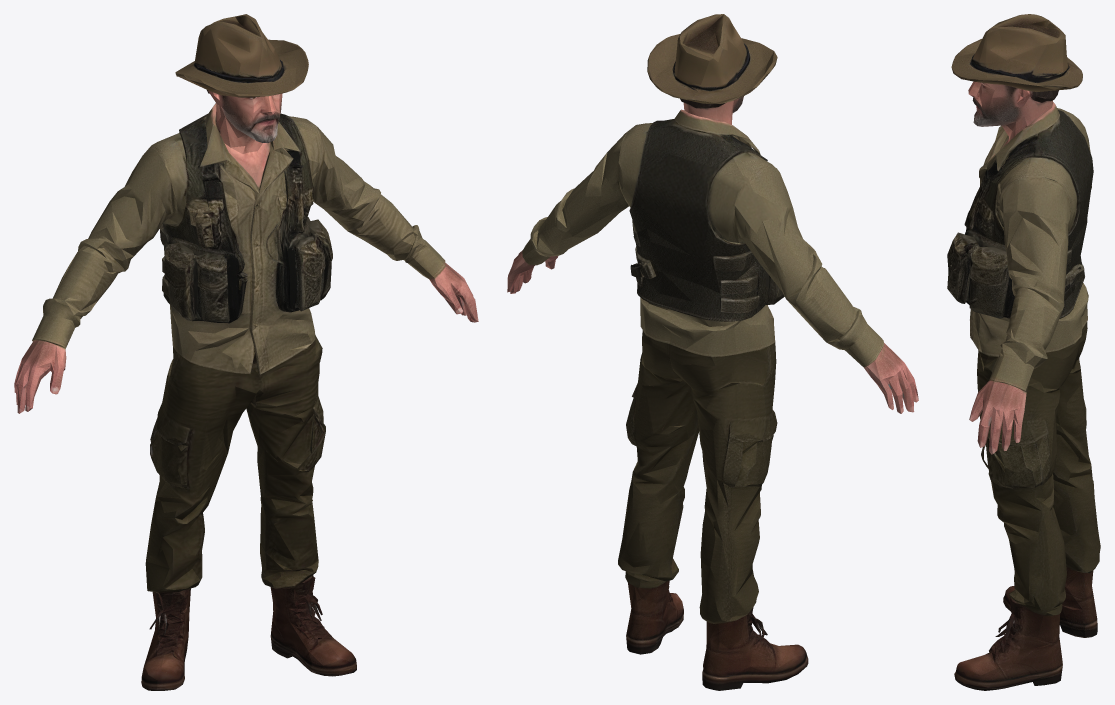
3 views of the same model, side by side, from view 1: azimuth 30°, elevation 25°; view 2: azimuth 150°, elevation 25°; view 3: azimuth 270°, elevation 25° (orthographic). The views are drawn at different scales.
Size of the model in its own units: 1.32 by 1.9 by 0.4199.
1 material, 1 textured.
